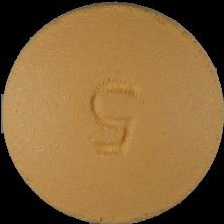54868-4721: (0, 0, 224, 224)
